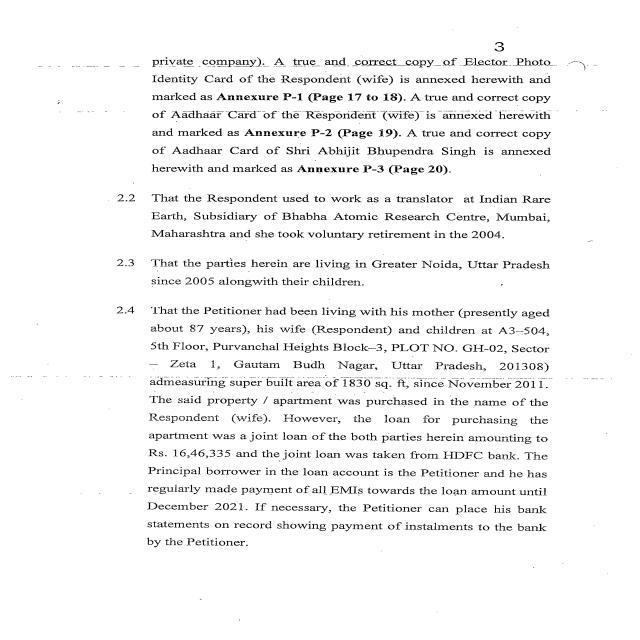page-number: (395, 0, 640, 56)
